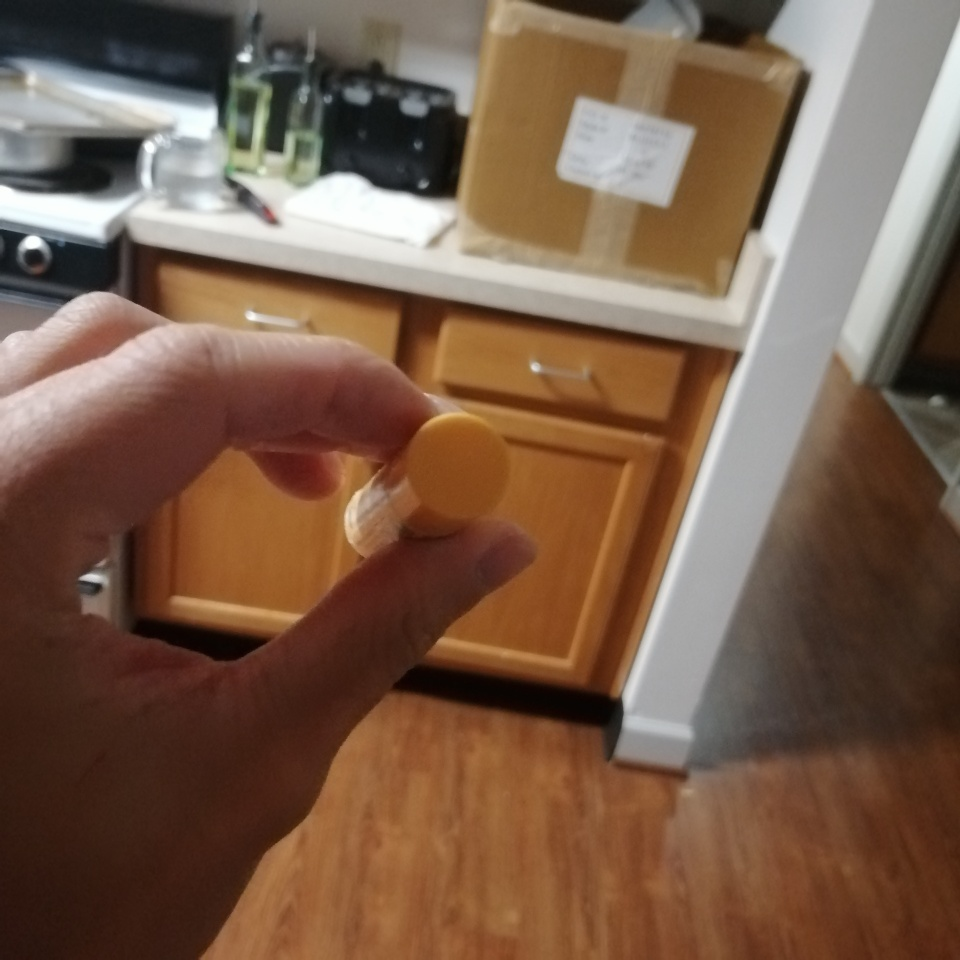chapstick: (343, 412, 512, 558)
